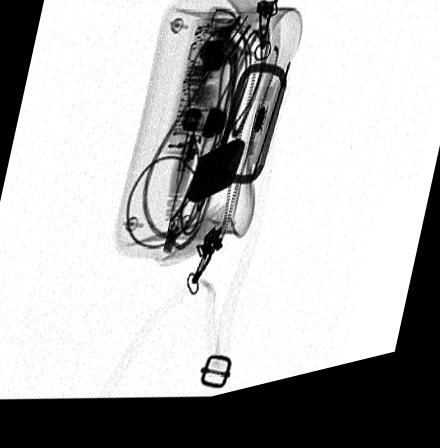Lighter: (187, 149, 246, 213)
